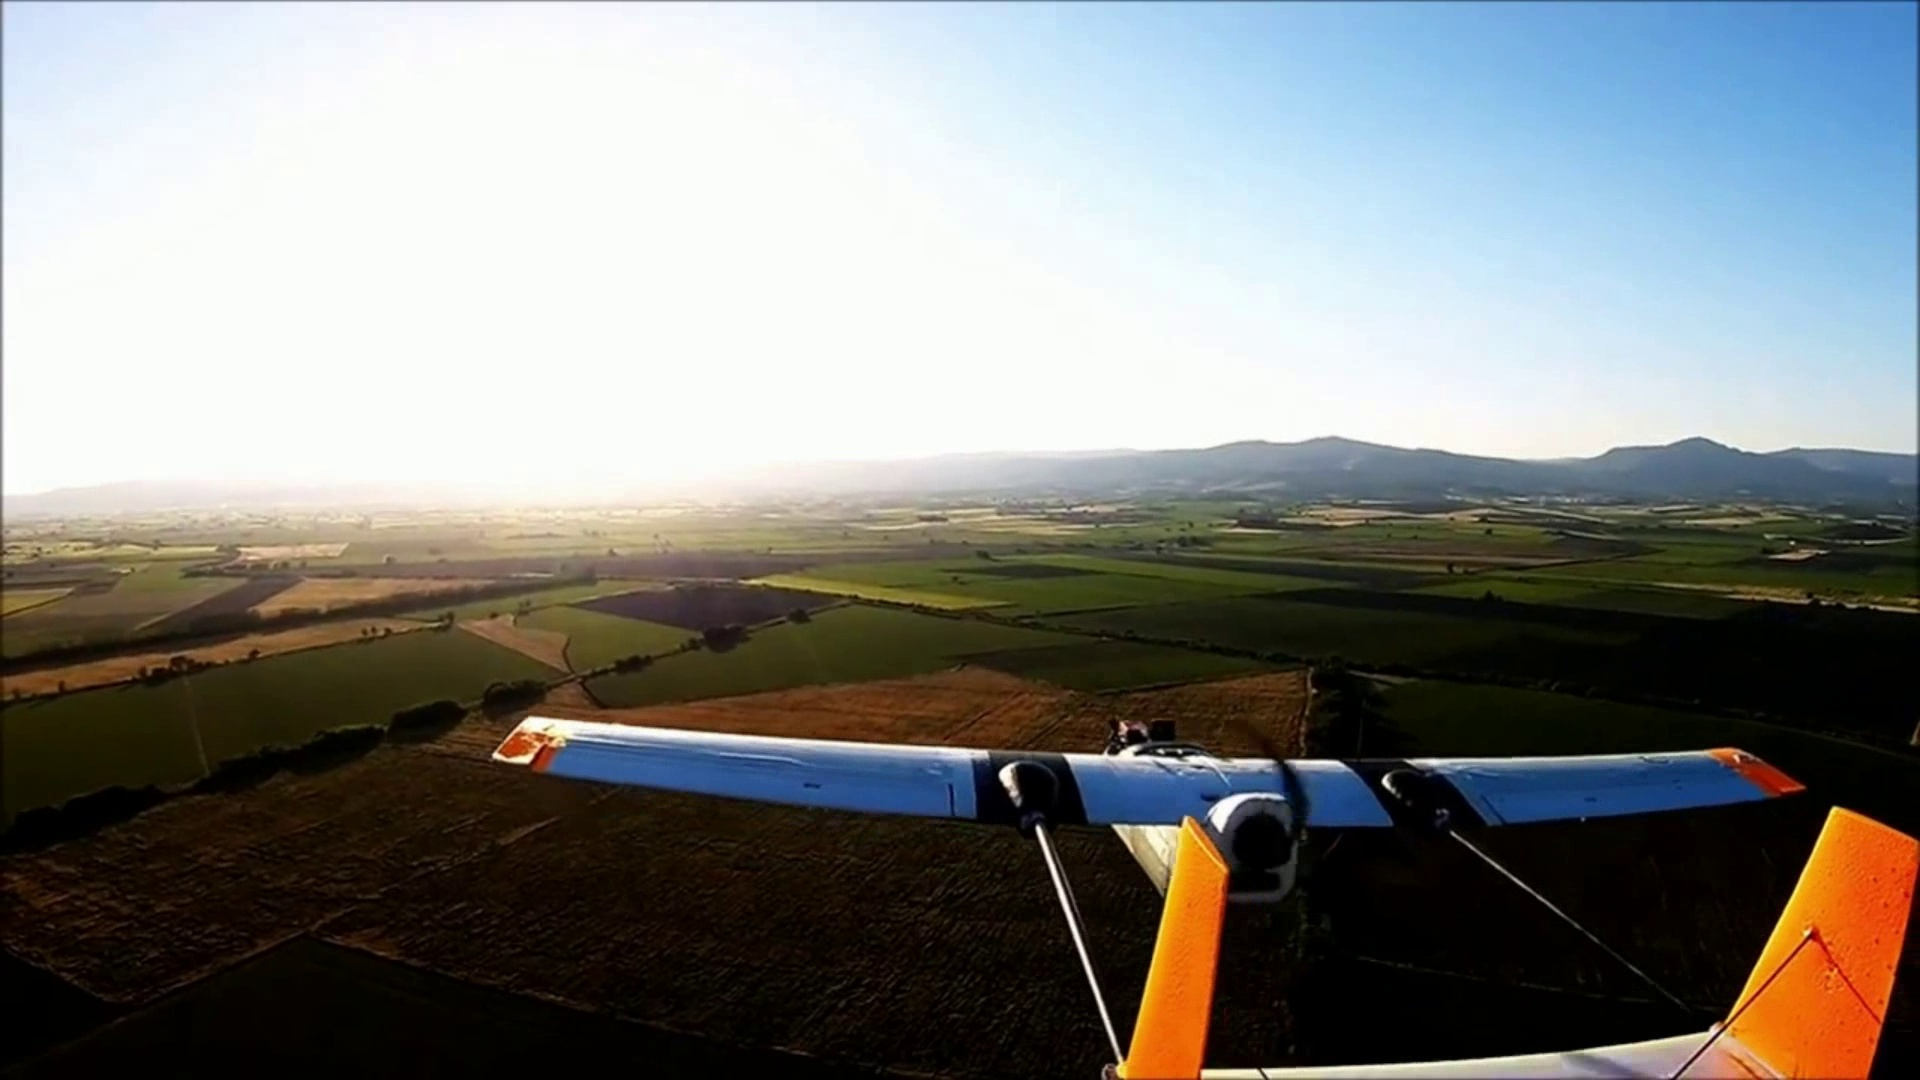airplane: (495, 717, 1915, 1072)
